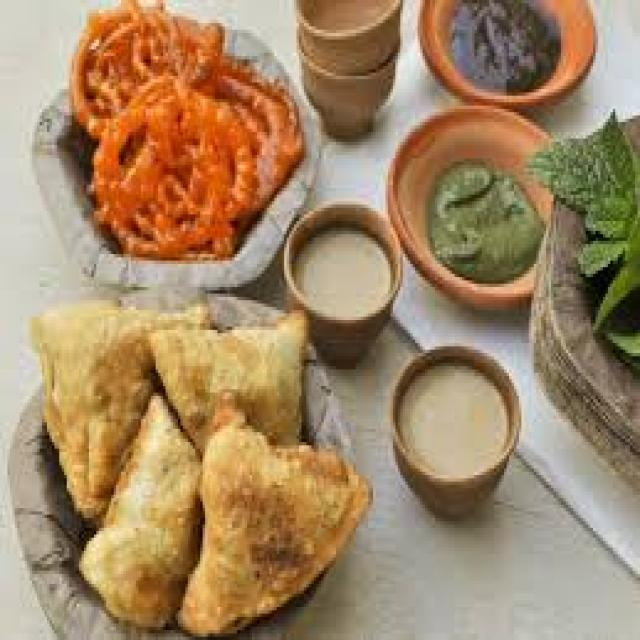SAMOSA: (183, 398, 369, 632), (26, 302, 213, 517), (76, 395, 197, 632), (149, 306, 309, 456)
